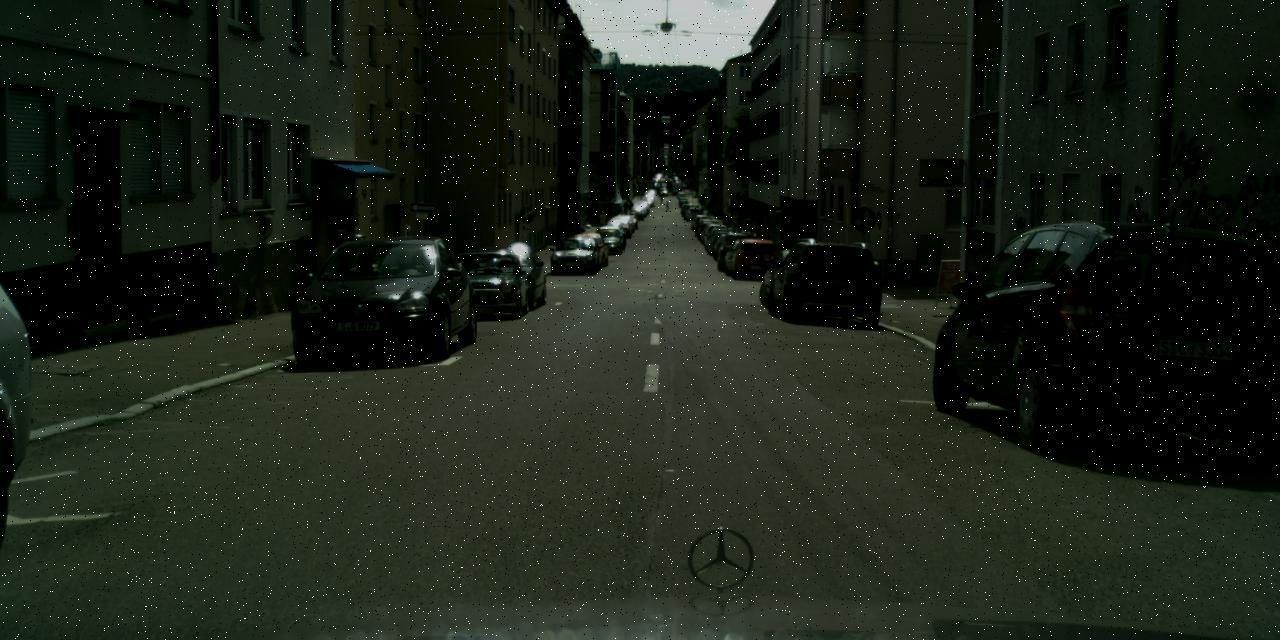ped: (597, 210, 607, 236), (730, 211, 739, 233), (723, 212, 731, 232), (665, 200, 669, 210), (659, 196, 662, 204)
